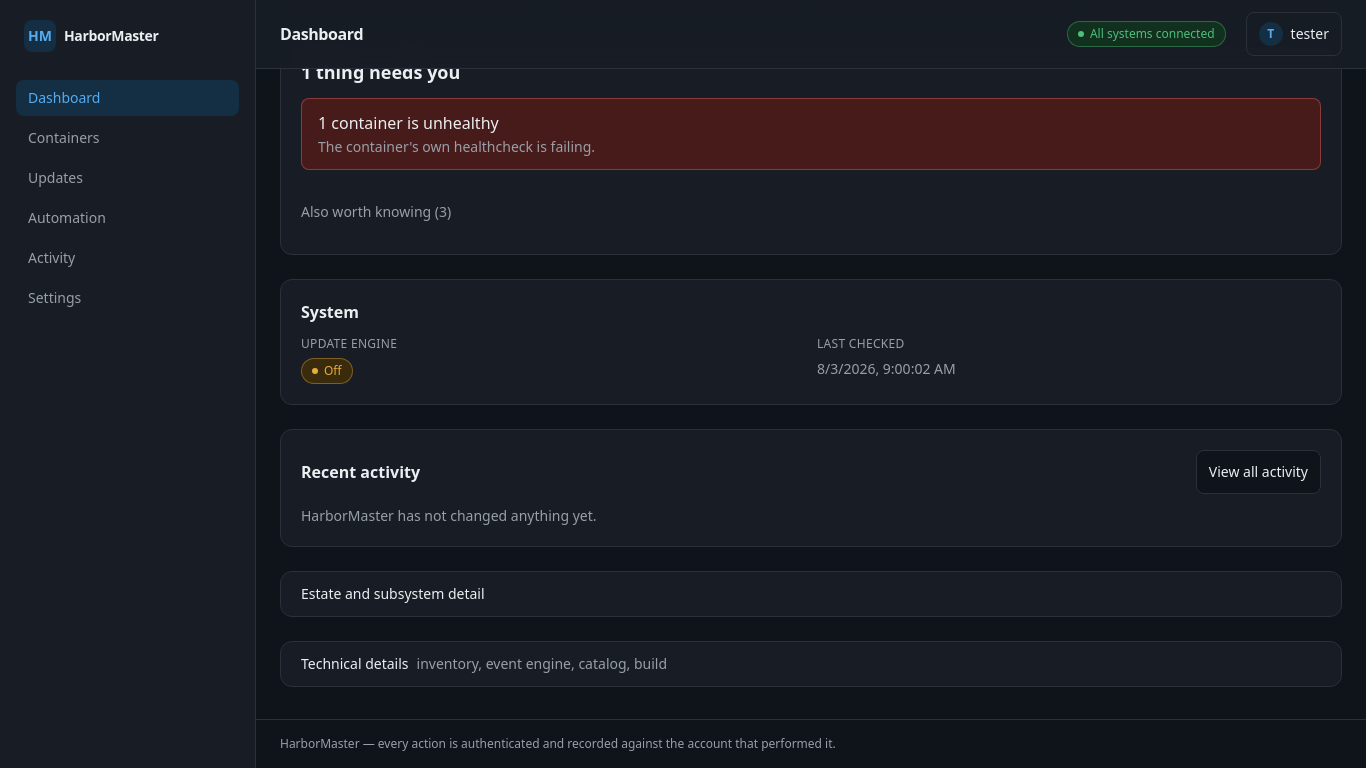
Test: Dashboard event engine reporting › keeps the counters, one disclosure away
(page scrolled)
Click the heading "Technical details inventory, event engine, catalog, build". click: x=484, y=664
box: 301,654 -> 667,673
(page scrolled)
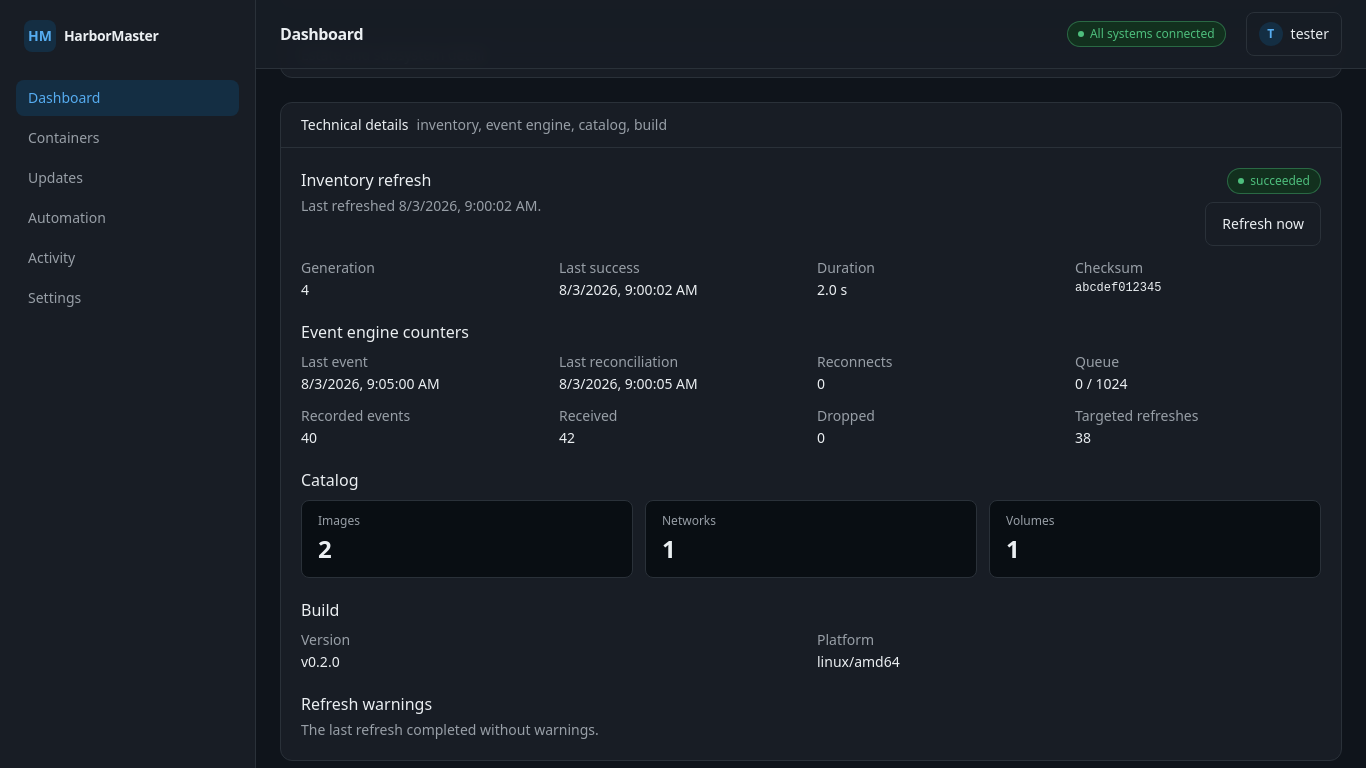
Expected: the text "Last event" is shown, 301,352 -> 368,371
Expected: the text "Last reconciliation" is shown, 559,352 -> 678,371
Expected: the text "0 / 1024" is shown, 1075,374 -> 1128,393
